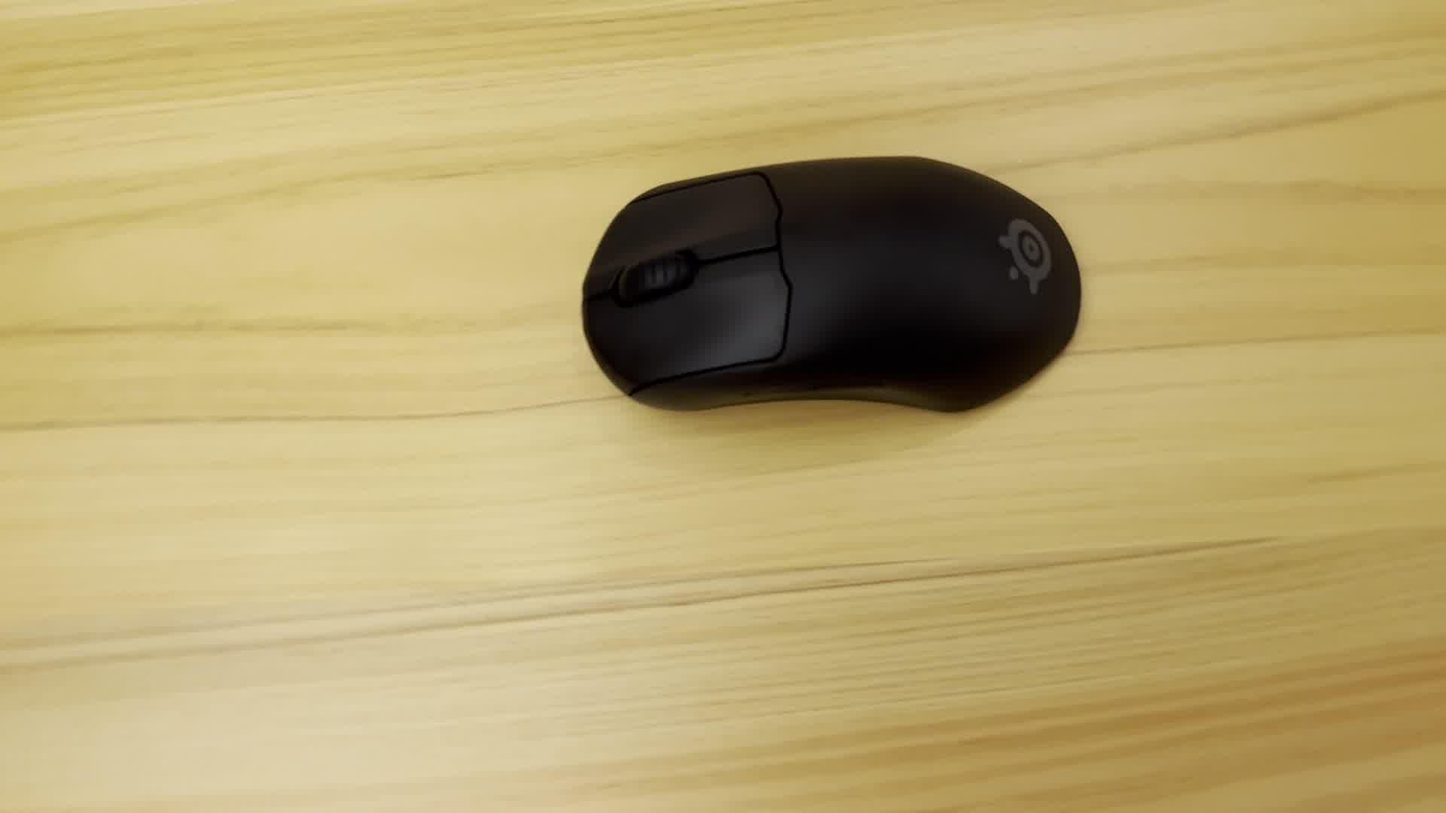steel-series: (579, 148, 1085, 424)
